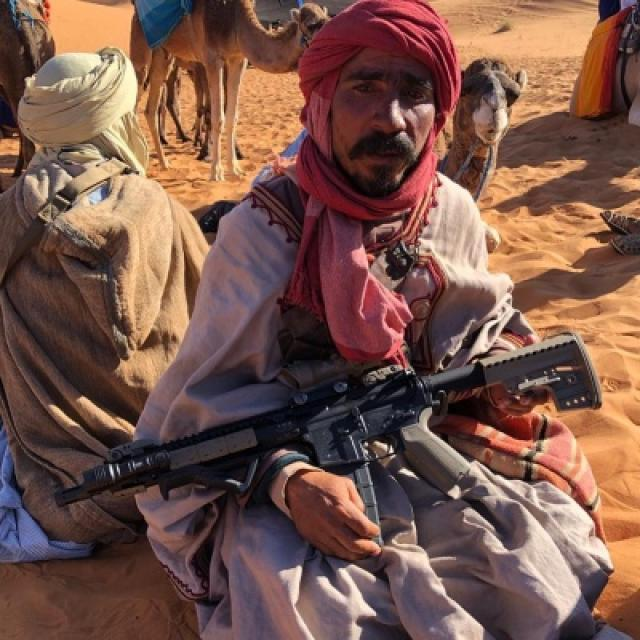rifle: (52, 328, 604, 567)
